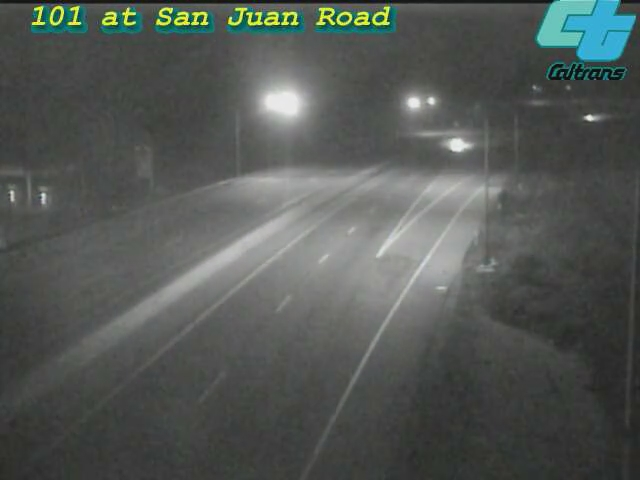vehicle: (562, 93, 612, 143), (430, 121, 480, 171)
